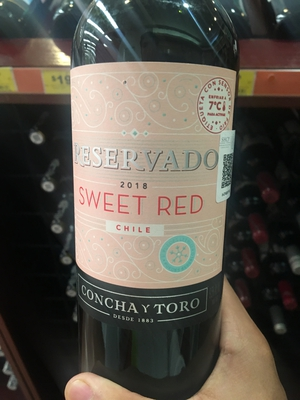reservado sweet red: (64, 1, 237, 386)
